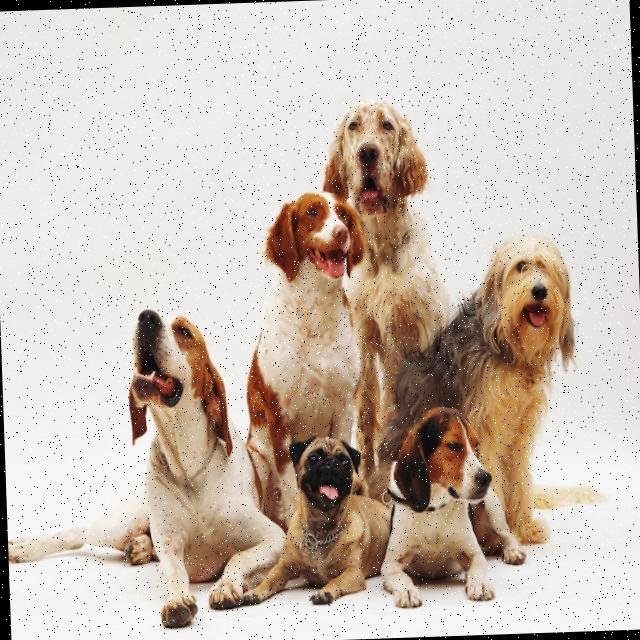Dog: (0, 306, 287, 631), (374, 230, 613, 554), (320, 99, 458, 497), (240, 191, 372, 526), (378, 398, 526, 610), (238, 432, 394, 609)
